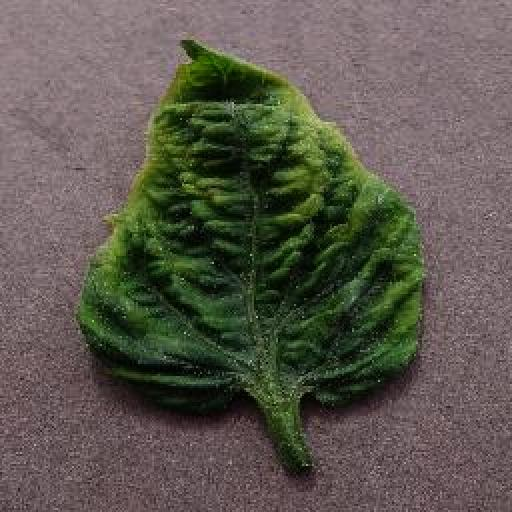disease_tomato: (75, 32, 428, 418)
